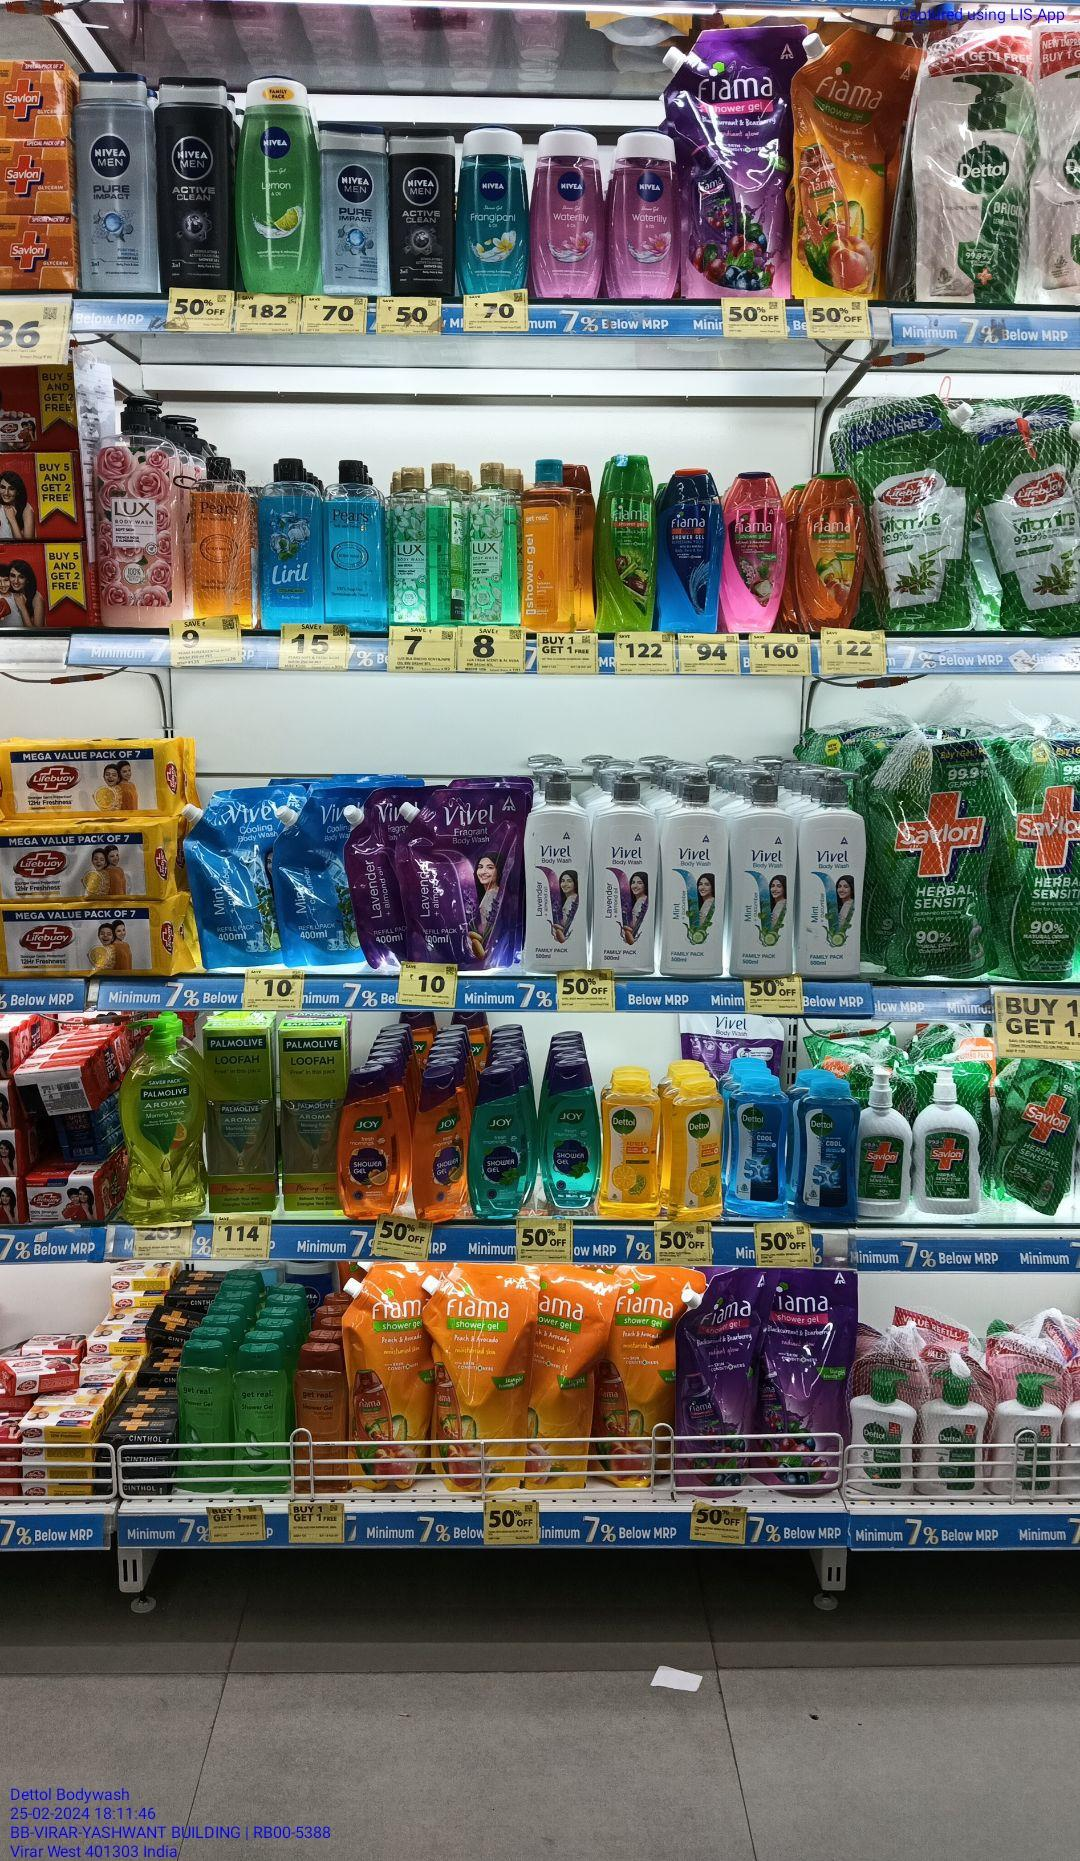Dettol_Bodywash_Cool: (729, 1077, 789, 1218), (801, 1080, 859, 1222)
Dettol_Bodywash_Refresh: (603, 1072, 662, 1218), (675, 1077, 723, 1222)
Fiama_Shower_Gel_Lemongrass_and_Jojoba_250ML: (606, 456, 656, 632)
Fiama_Shower_Gel_Patchouli_and_Macadamia_250ML: (724, 470, 787, 632)
Fiama_Shower_Gel_Peach_and_Avocado_250ML: (800, 472, 863, 628)
Get_Real_Shower_Gel_Moisturising_Glycerin_300ML: (293, 1348, 354, 1491)
Joy_Shower_Gel_Mandarin_and_Lemongrass_250ML: (337, 1067, 395, 1218), (417, 1073, 464, 1221)
Joy_Shower_Gel_Mint_and_Eucalyptus_250ML: (468, 1068, 532, 1216), (543, 1067, 598, 1208)
Liril_Cooling_Mint_Body_Wash_250ML: (262, 458, 320, 630)
Lux_Body_Wash_Skin_Detox_Freesia_Scent_and_Alove_Vera_245ML: (467, 460, 513, 625), (393, 467, 432, 622)
Nivea_Shower_Gel_Frangipani_and_Oil_250ML: (463, 122, 531, 301)
Nivea_Shower_Gel_Waterlily_and_Oil_250ML: (608, 127, 679, 303), (536, 129, 604, 297)
Pears_Pure_Glycerin_and_Mint_Extracts_Body_Wash_250ML: (325, 460, 386, 631)
